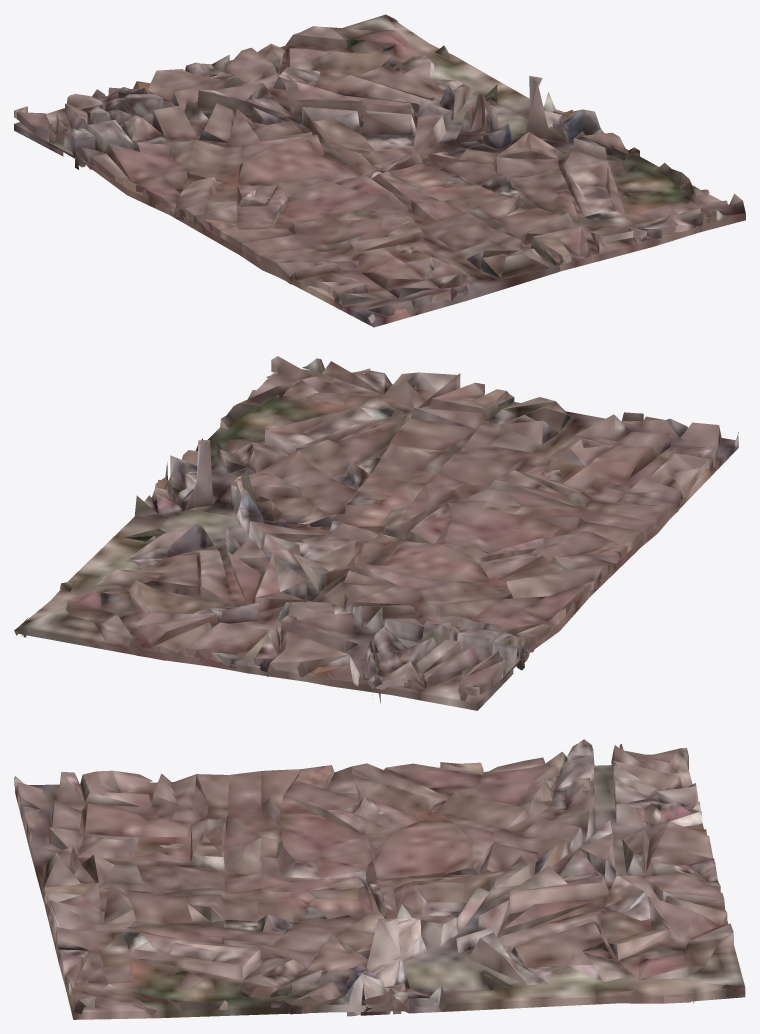
3 renders of one model, top to bottom at view 1: azimuth 30°, elevation 25°; view 2: azimuth 150°, elevation 25°; view 3: azimuth 270°, elevation 25°, orthographic. The views are drawn at different scales.
Visible parts, largest first — view 1: Mesh_0; view 2: Mesh_0; view 3: Mesh_0.
Boxes of the visible parts, x1,y1,x2,y2 form: Mesh_0: [14, 14, 745, 327]; Mesh_0: [14, 356, 738, 710]; Mesh_0: [14, 739, 745, 1019].
Bounding box in the file's own units: 1065 × 158 × 1321.
2 materials, 2 textured.
